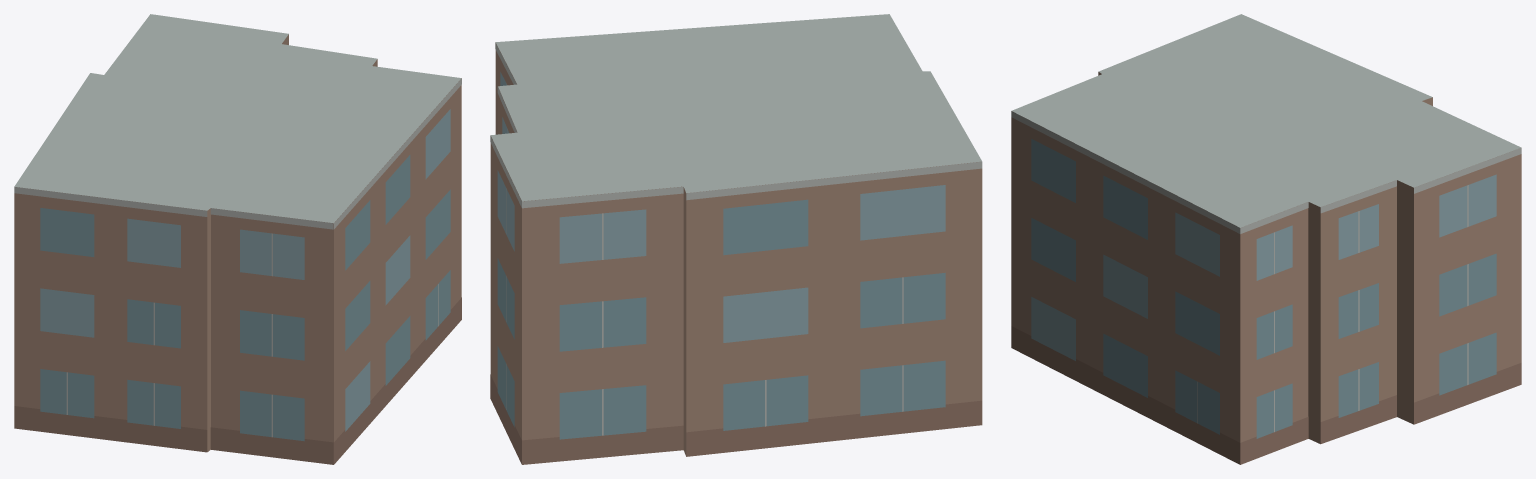
The model's file is survey-upis-32656495.glb.
3 views of the same model, side by side, from view 1: azimuth 30°, elevation 25°; view 2: azimuth 150°, elevation 25°; view 3: azimuth 270°, elevation 25° (orthographic). The views are drawn at different scales.
Parts seen in each view (by area): view 1: survey-upis-32656495.tmp; view 2: survey-upis-32656495.tmp; view 3: survey-upis-32656495.tmp.
Boxes of the visible parts, left/top/right/bottom form: survey-upis-32656495.tmp: left=14, top=14, right=461, bottom=464; survey-upis-32656495.tmp: left=490, top=14, right=982, bottom=464; survey-upis-32656495.tmp: left=1011, top=14, right=1521, bottom=464.
Bounding box in the file's own units: 17.72 × 9.15 × 17.86.
